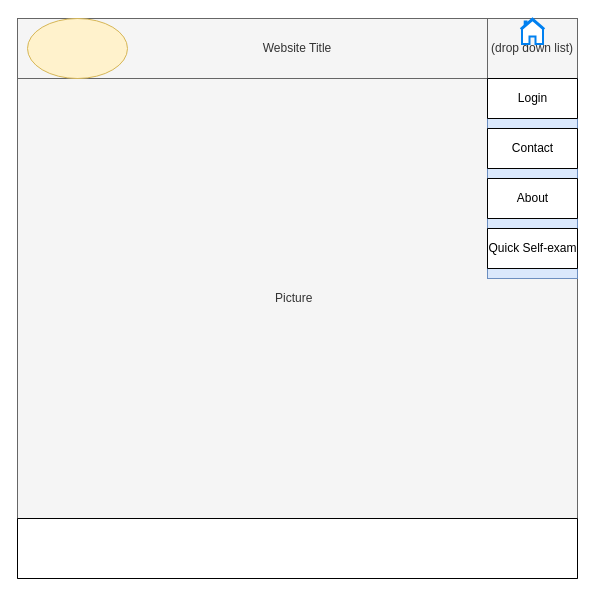
This 595x596 diagram has some shape labels left out. The centre of each missing label's shape, as x and y in pixels:
Logo: (77,48)
Website info, contact info, etc: (297,548)
